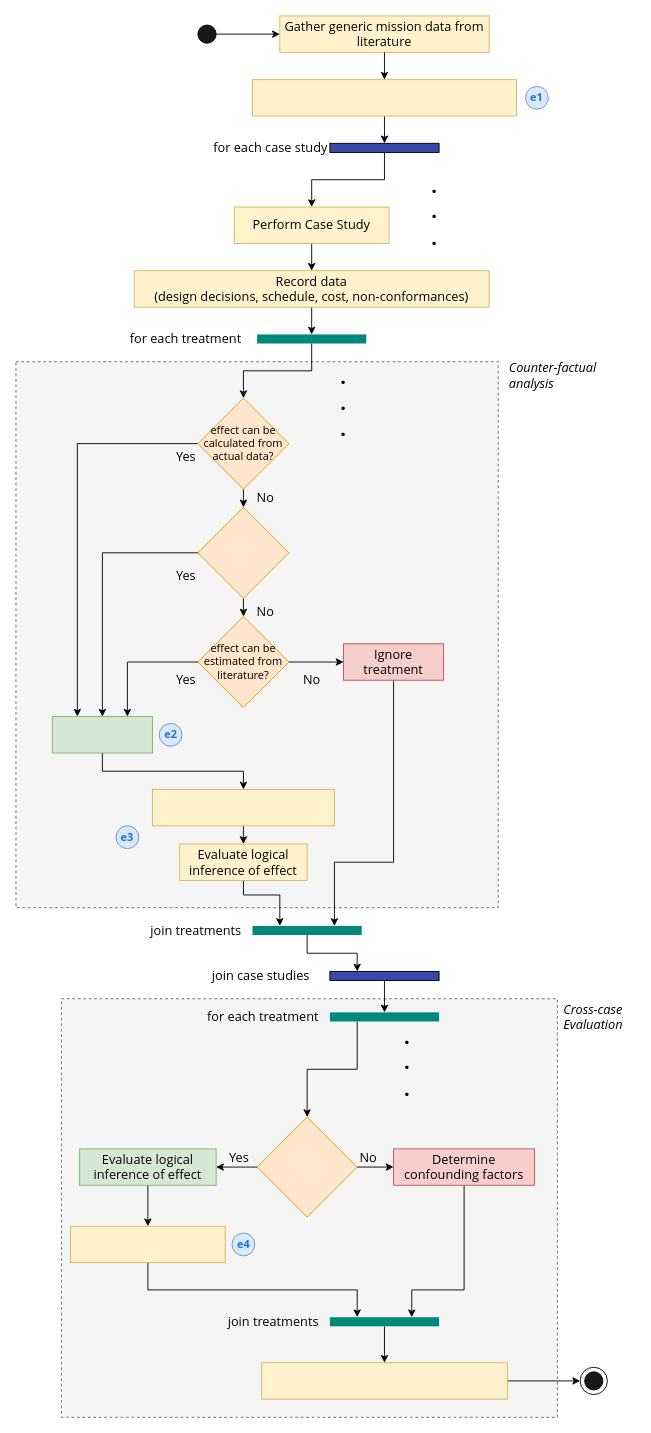
This 651x1433 diagram has some shape labels left out. Here are the shapes that lost their labels. From the top down, the centre of each, then its label:
At pixel 384 97: "Make initial, tentative statements for each treatment".
At pixel 243 552: "effect can be estimated from actual data?".
At pixel 101 734: "Estimate effect".
At pixel 243 807: "Evaluate external/confounding factors".
At pixel 306 1166: "Evidence convergent?".
At pixel 147 1244: "Estimate effect mean and significance".
At pixel 384 1380: "Estimate methodology effect mean and significance".
